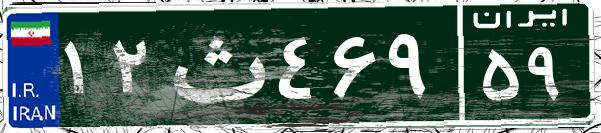1: (57, 26, 110, 107)
2: (110, 28, 158, 105)
4: (273, 28, 330, 110)
5: (475, 38, 525, 113)
6: (330, 28, 385, 110)
9: (385, 28, 445, 110), (525, 38, 570, 115)
ث: (158, 15, 273, 115)
